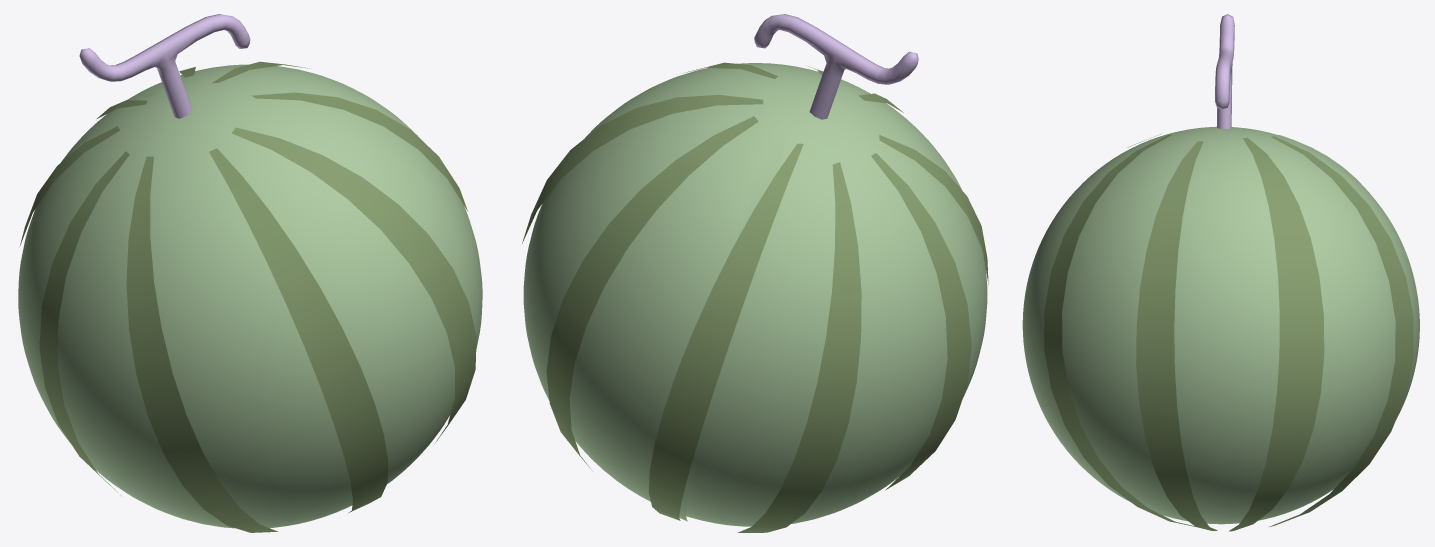
The model's file is spacemelon.gltf.
The picture shows the model from 3 angles, left to right: view 1: azimuth 30°, elevation 25°; view 2: azimuth 150°, elevation 25°; view 3: azimuth 270°, elevation 25°; orthographic projection. The views are drawn at different scales.
Parts seen in each view (by area): view 1: Sphere, Subdiv (×6), rop; view 2: Sphere, Subdiv (×6), rop, green_melon; view 3: Sphere, Subdiv (×4), rop.
Part boxes in pixels (box(x1,y1,x2,y2)): Sphere: box(18, 64, 482, 528); Subdiv (×6): box(19, 92, 476, 532); rop: box(79, 14, 250, 118); Sphere: box(523, 63, 987, 526); Subdiv (×6): box(522, 94, 988, 532); rop: box(754, 14, 918, 119); green_melon: box(679, 141, 784, 521); Sphere: box(1022, 126, 1419, 524); Subdiv (×4): box(1044, 135, 1413, 531); rop: box(1215, 14, 1234, 128).
Bounding box in the file's own units: 1.8 × 2.14 × 1.81.
